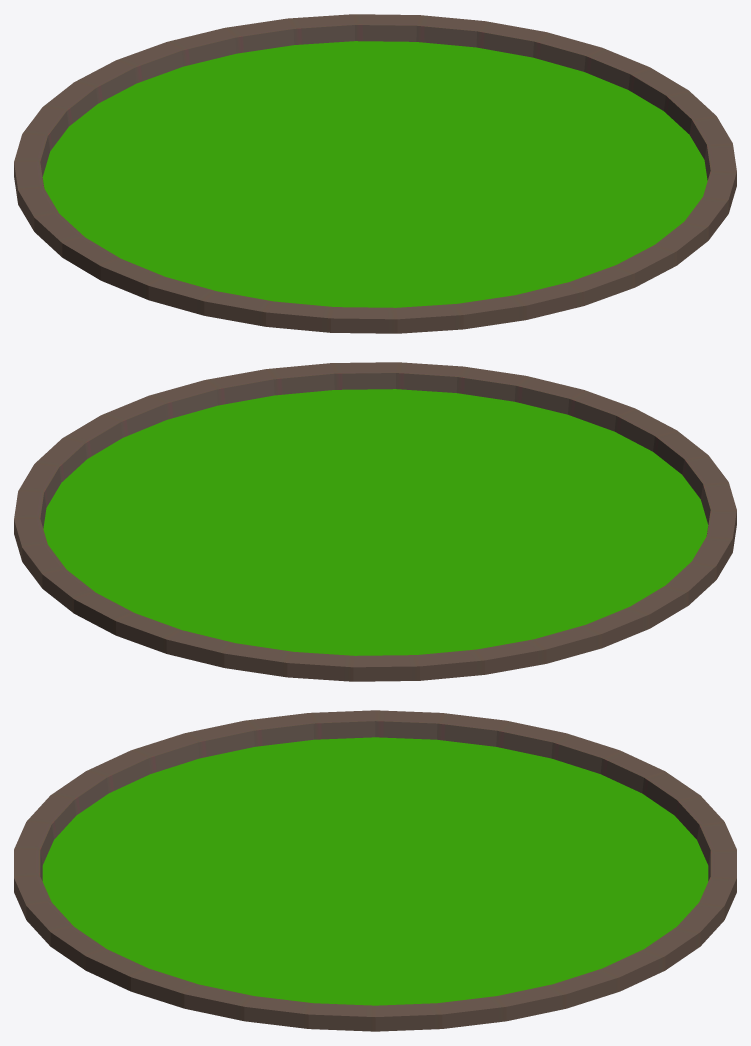
3 renders of one model, top to bottom at view 1: azimuth 30°, elevation 25°; view 2: azimuth 150°, elevation 25°; view 3: azimuth 270°, elevation 25°, orthographic.
Visible parts, largest first — view 1: SM_R_P8; view 2: SM_R_P8; view 3: SM_R_P8.
Boxes of the visible parts, x1,y1,x2,y2 form: SM_R_P8: (14,14,736,333); SM_R_P8: (14,362,736,681); SM_R_P8: (14,710,736,1031).
Size of the model in its own units: 7316 by 169 by 7285.
